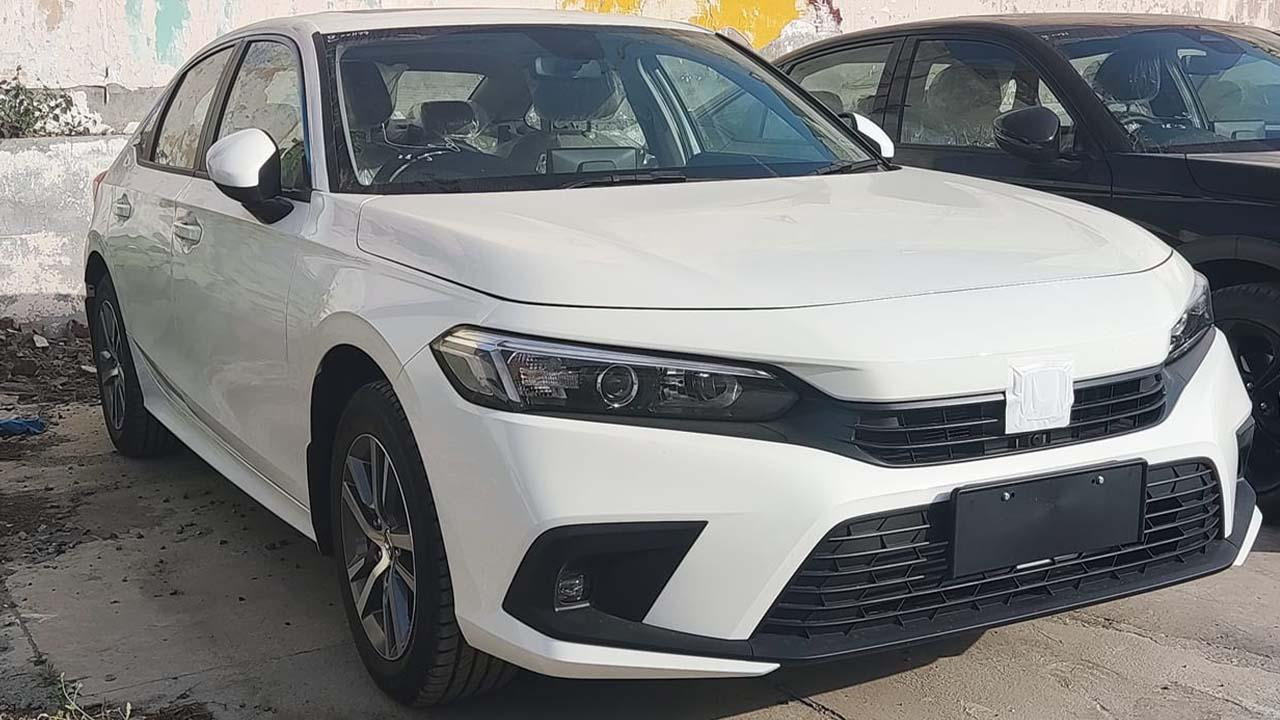windshield: (308, 28, 892, 202)
